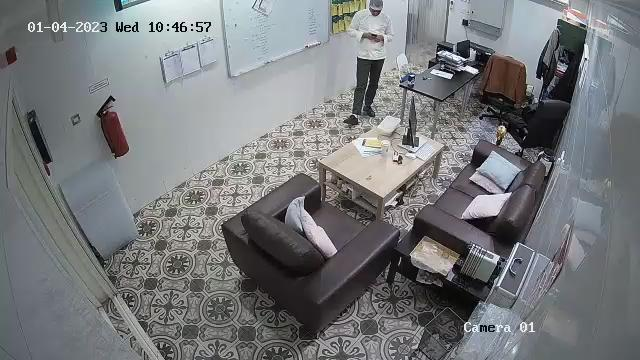no_apron: (360, 13, 387, 60)
